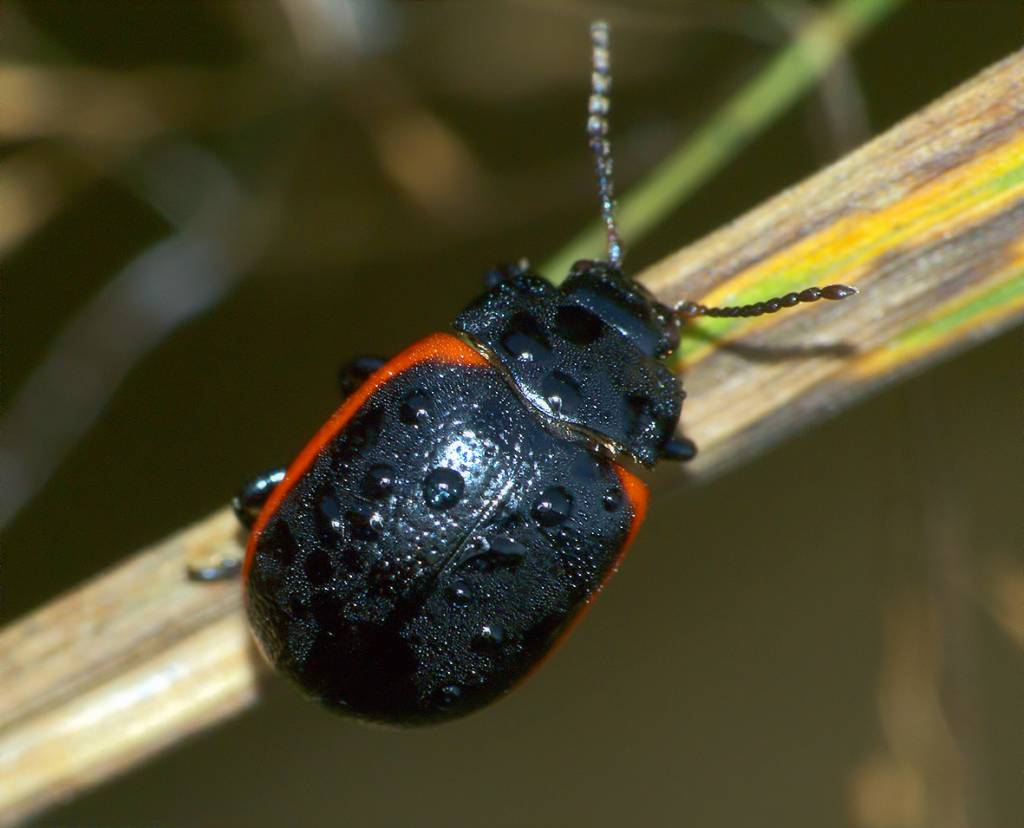Chrysolina_gypsophila: (199, 17, 866, 741)
